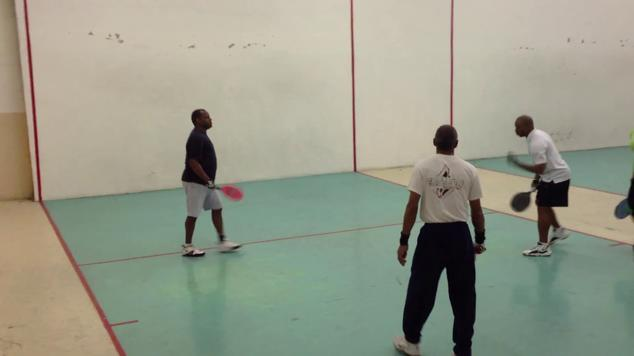walk: (395, 144, 485, 349), (504, 116, 576, 233), (175, 111, 235, 249)
